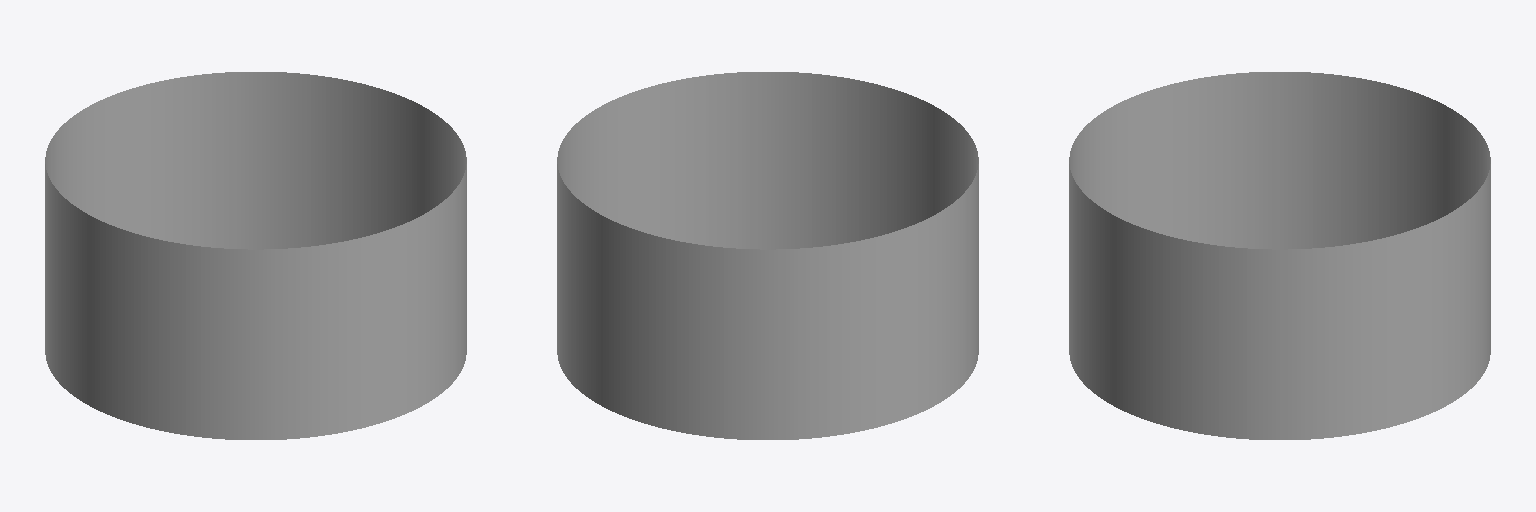
The model's file is UnitCylinder.obj.
3 views of the same model, side by side, from view 1: azimuth 30°, elevation 25°; view 2: azimuth 150°, elevation 25°; view 3: azimuth 270°, elevation 25° (orthographic).
Parts seen in each view (by area): view 1: Cylinder; view 2: Cylinder; view 3: Cylinder.
Boxes of the visible parts, <box> form: Cylinder: <box>45,72,466,439</box>; Cylinder: <box>557,72,978,439</box>; Cylinder: <box>1069,72,1490,439</box>.
Size of the model in its own units: 2 by 1 by 2.